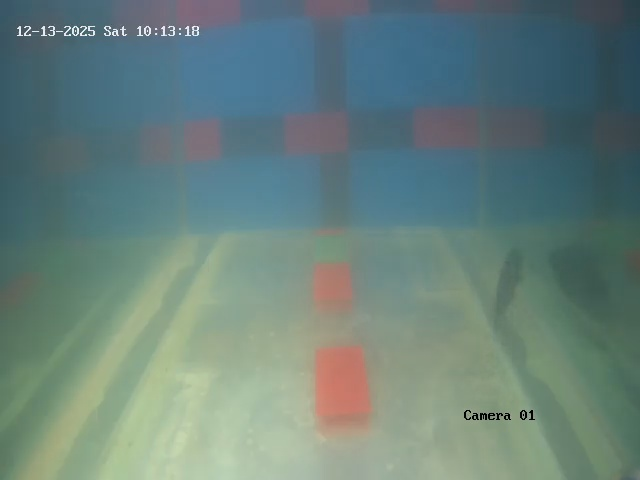fish: (489, 246, 524, 358)
